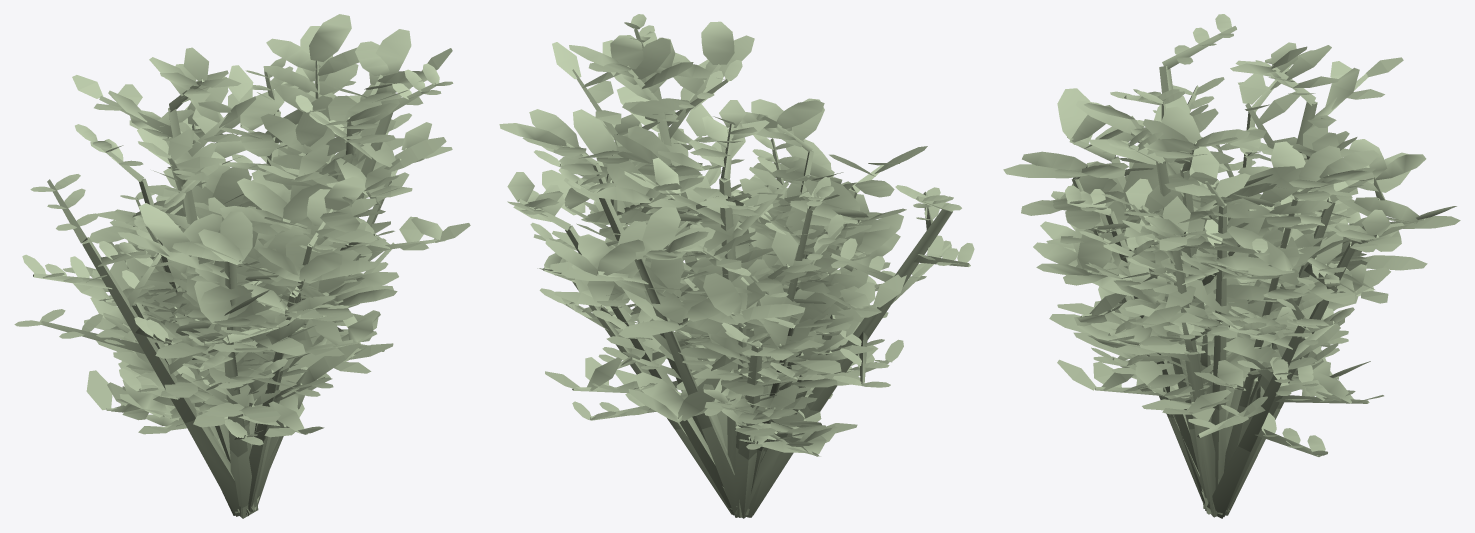
Rendered from shrub_thicket.glb.
3 renders of one model, left to right at view 1: azimuth 30°, elevation 25°; view 2: azimuth 150°, elevation 25°; view 3: azimuth 270°, elevation 25°, orthographic. The views are drawn at different scales.
Parts seen in each view (by area): view 1: v2_foliage, v0_foliage, v1_bark, v1_foliage, v0_bark, v2_bark; view 2: v2_foliage, v0_foliage, v1_foliage, v1_bark, v0_bark, v2_bark; view 3: v2_foliage, v0_foliage, v1_foliage, v1_bark, v0_bark, v2_bark.
Boxes of the visible parts, box(x1,y1,x2,y2) form: v2_foliage: box(84, 14, 446, 427); v0_foliage: box(63, 47, 470, 437); v1_bark: box(33, 71, 436, 516); v1_foliage: box(14, 58, 453, 445); v0_bark: box(99, 79, 445, 517); v2_bark: box(153, 60, 401, 518); v2_foliage: box(499, 21, 927, 436); v0_foliage: box(507, 42, 906, 456); v1_foliage: box(530, 14, 974, 449); v1_bark: box(533, 28, 970, 518); v0_bark: box(518, 69, 876, 517); v2_bark: box(566, 64, 883, 517); v2_foliage: box(1003, 88, 1460, 389); v0_foliage: box(1046, 42, 1407, 421); v1_foliage: box(1059, 14, 1374, 455); v1_bark: box(1065, 26, 1369, 518); v0_bark: box(1080, 65, 1379, 516); v2_bark: box(1057, 116, 1425, 517).
Size of the model in its own units: 1.01 by 1 by 0.9014.
